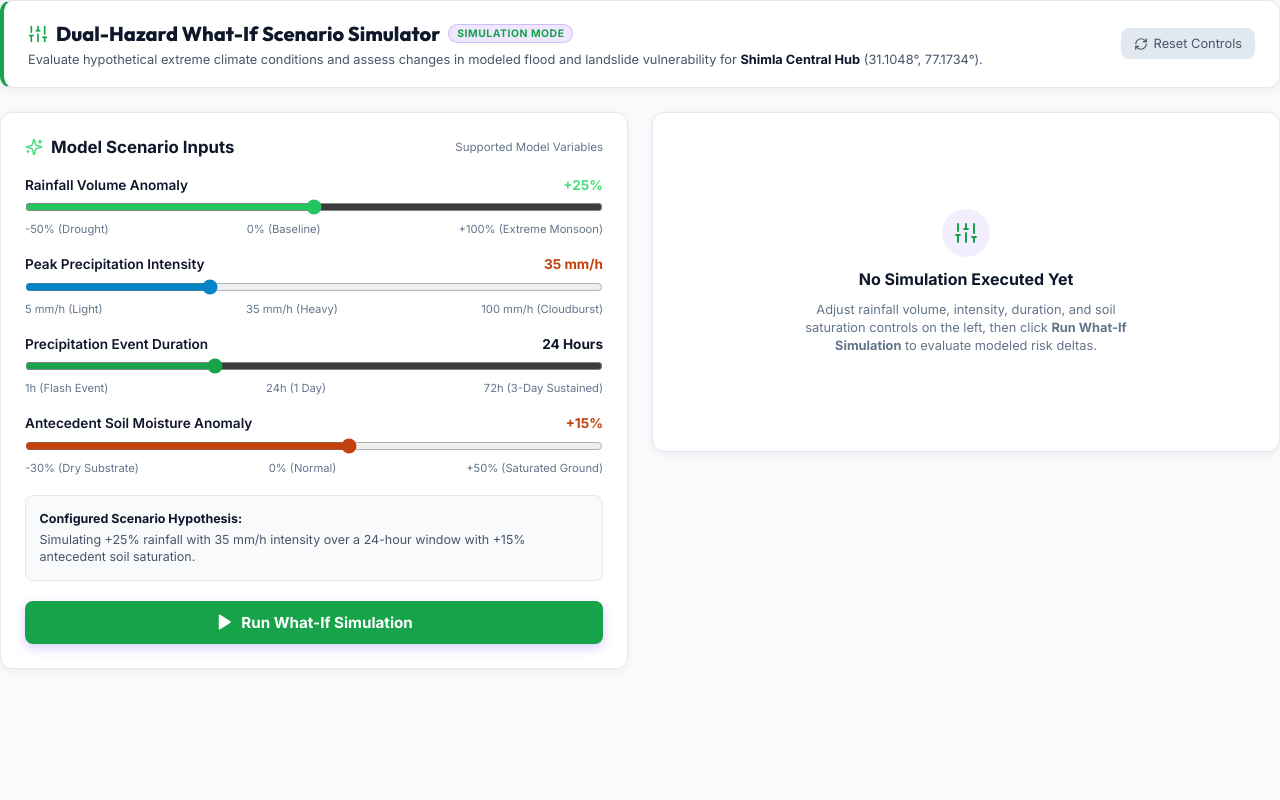
Test case: WhatIfSimulator Component › allows adjusting sliders and resets on Reset Controls click
Click the button "Reset Controls": (1188, 44) [1121,28,1255,60]
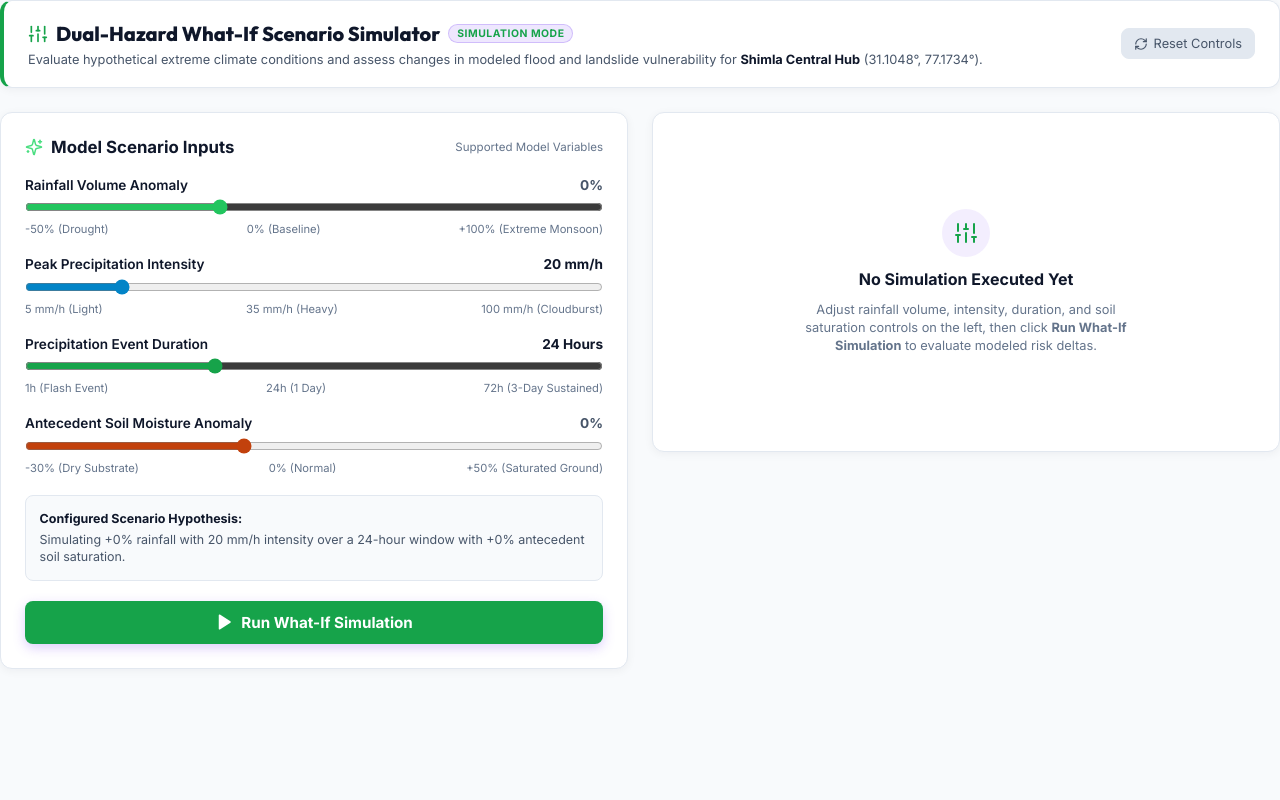
Check: the text "Simulating +0% rainfall" is shown, box [25,495,603,580]
